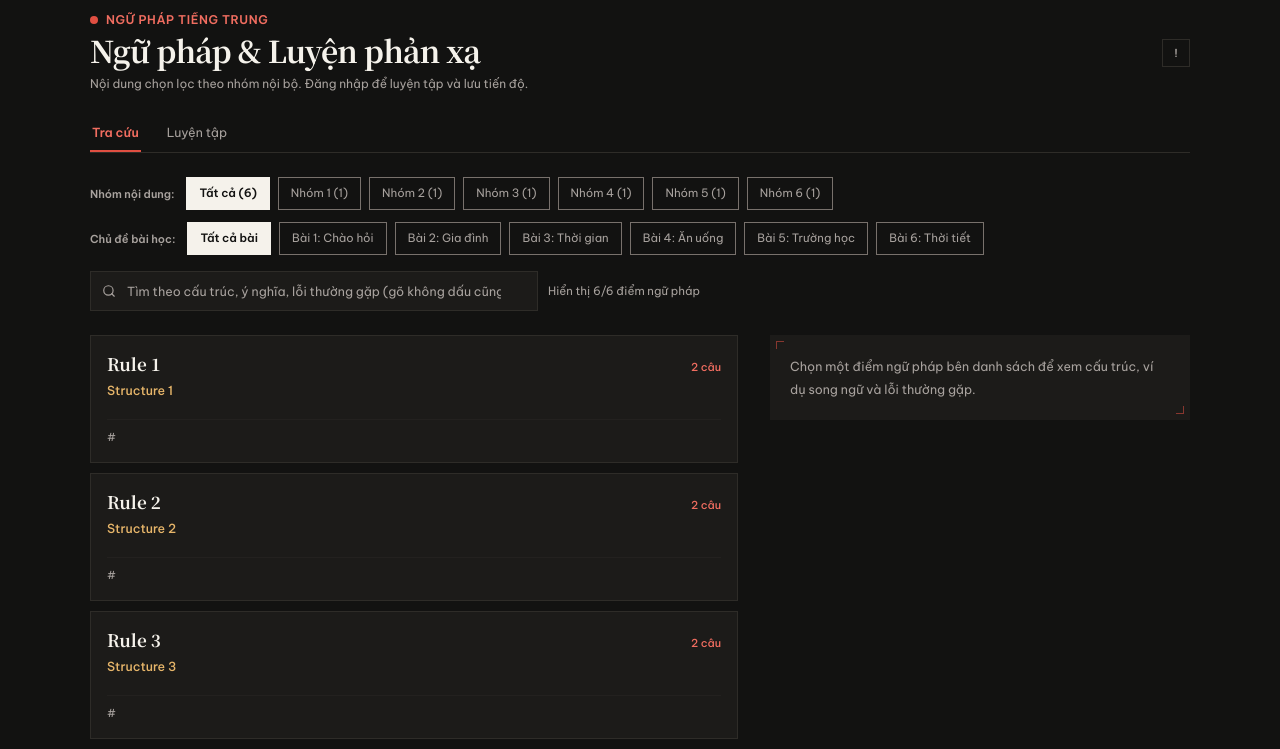
Test case: grammar level 2 displays its rule and accurate count
expect the text "Rule 1" is shown: met, box 107,352 -> 161,376
Click the button "Nhóm 2 (1)" at (412, 194), box 369,177 -> 455,210
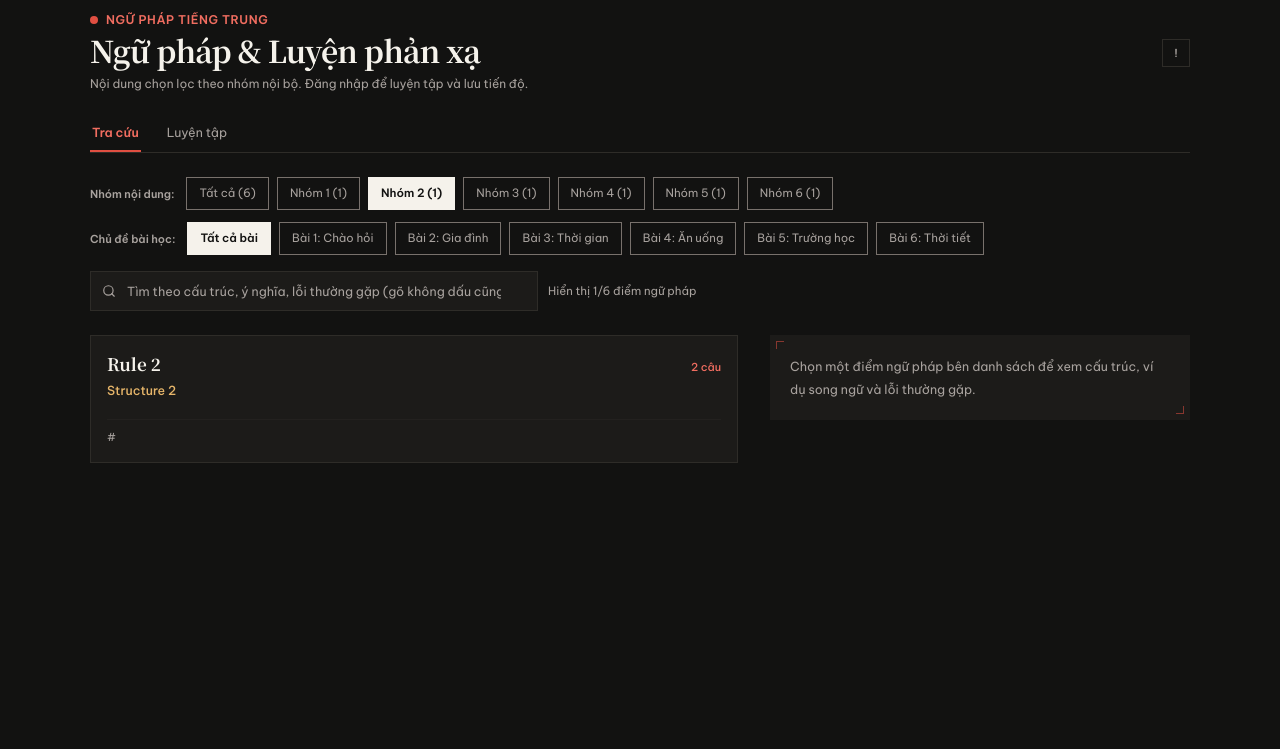
expect the button "Rule 1" is gone: met
